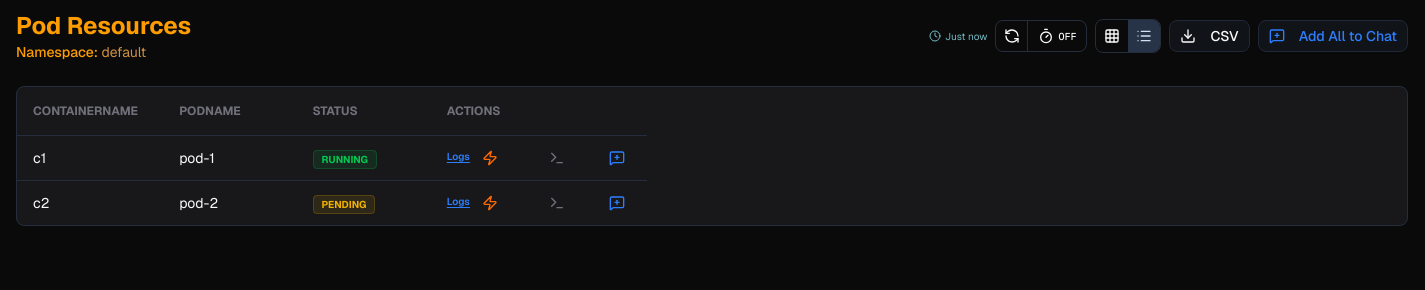
Test case: DashboardContent › toggles between table and grid views
Expected: the text "pod-1" is shown, [163,135,297,180]
Expected: the table is shown, [17,87,647,224]
Note: Switch to grid
Click the button named "grid view". click: x=1112, y=36
box: [1096,20,1128,52]
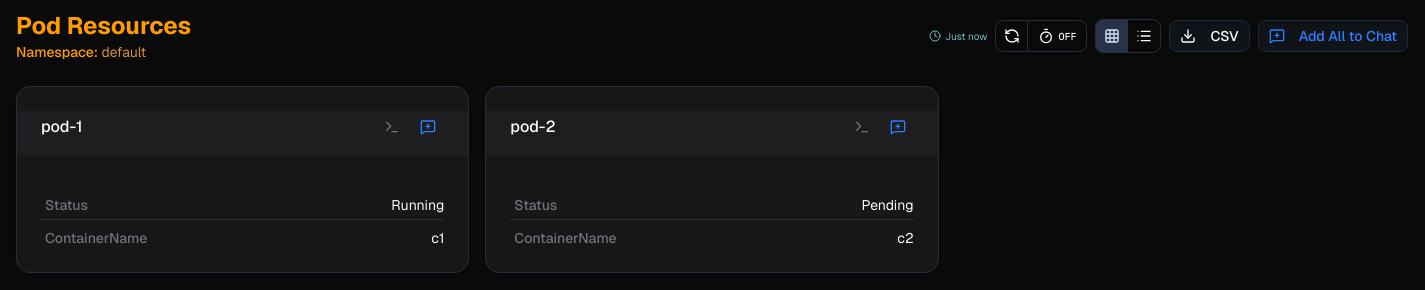
Expected: the text "pod-1" is shown, [41,115,82,139]
Now the table is gone
Note: Switch back to table
Click the button named "table view". click: x=1144, y=36
box: [1128,20,1160,52]
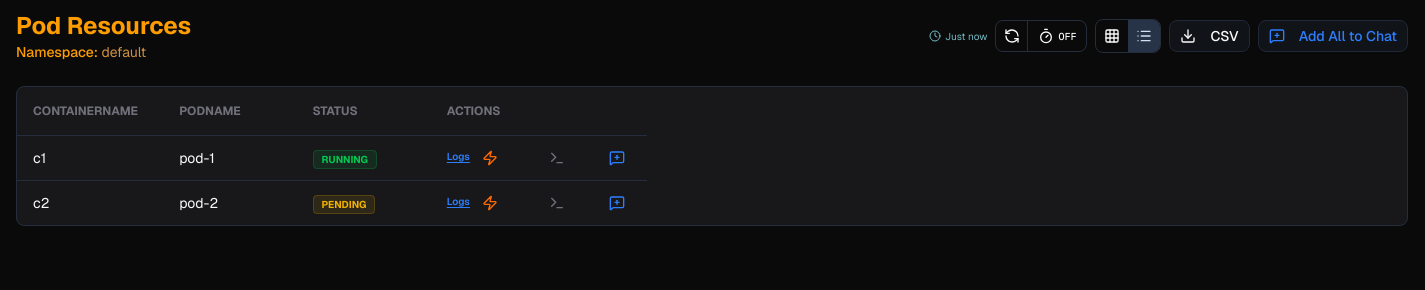
Now the table is shown, box [17,87,647,224]
